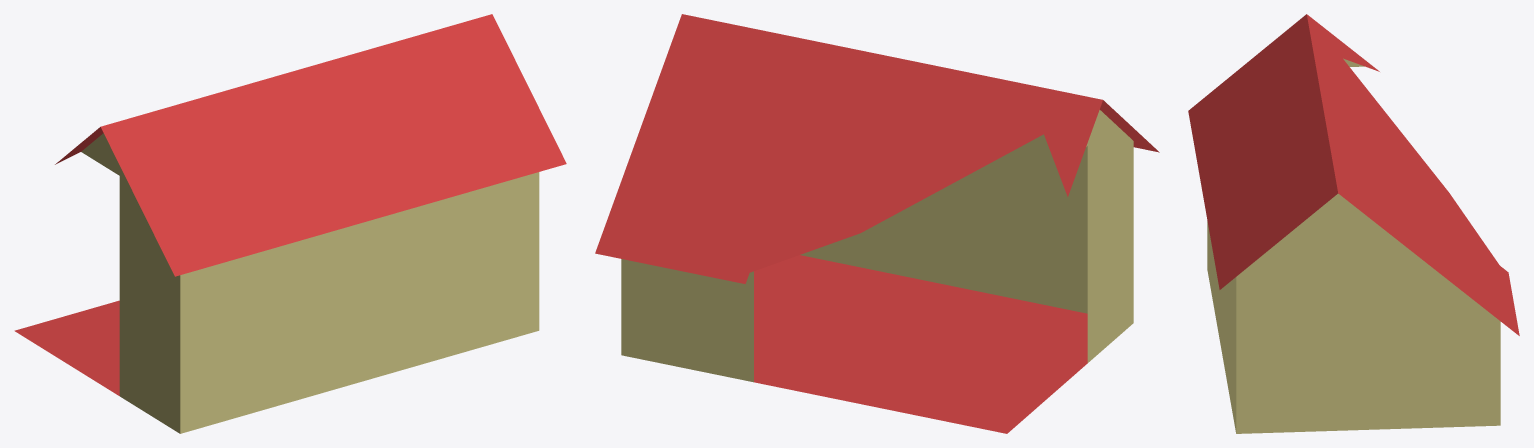
The picture shows the model from 3 angles, left to right: view 1: azimuth 30°, elevation 25°; view 2: azimuth 150°, elevation 25°; view 3: azimuth 270°, elevation 25°; orthographic projection. The views are drawn at different scales.
Bounding box in the file's own units: 24.55 × 18.55 × 15.12.
